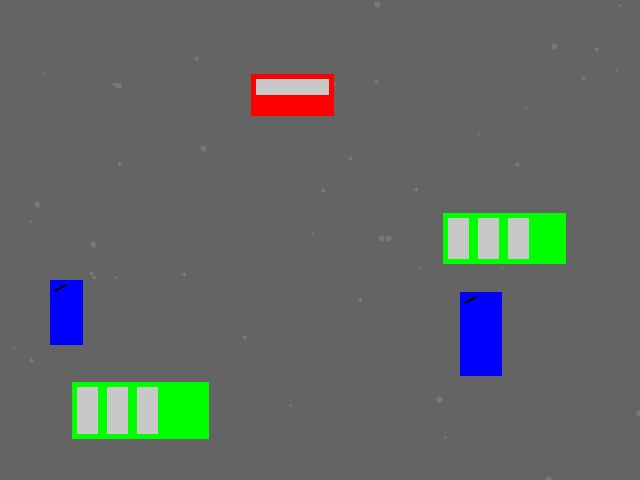bus: (72, 382, 208, 438), (443, 213, 565, 263)
car: (251, 74, 333, 115)
motorcycle: (460, 292, 501, 375), (50, 280, 82, 344)
